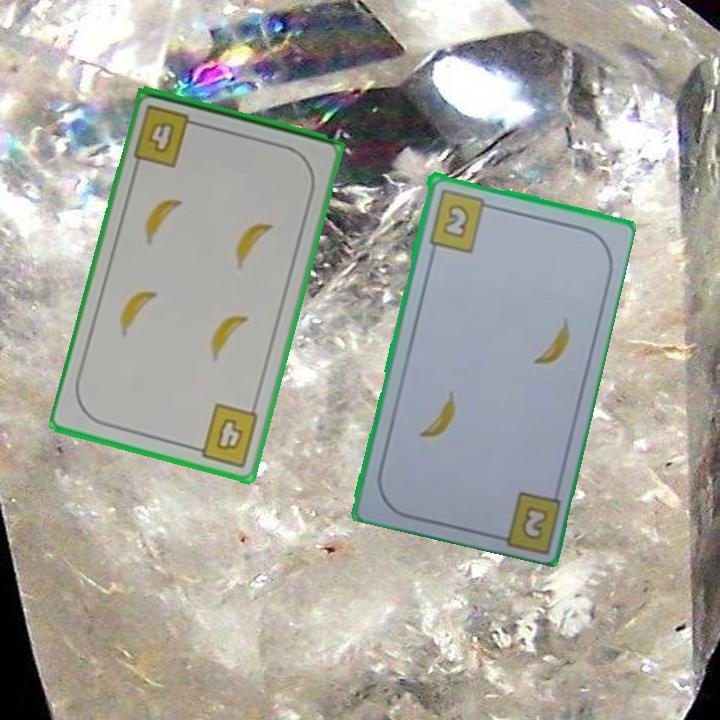2b: (425, 185, 496, 255), (517, 502, 551, 543)
4b: (187, 400, 262, 470), (130, 101, 205, 170)
